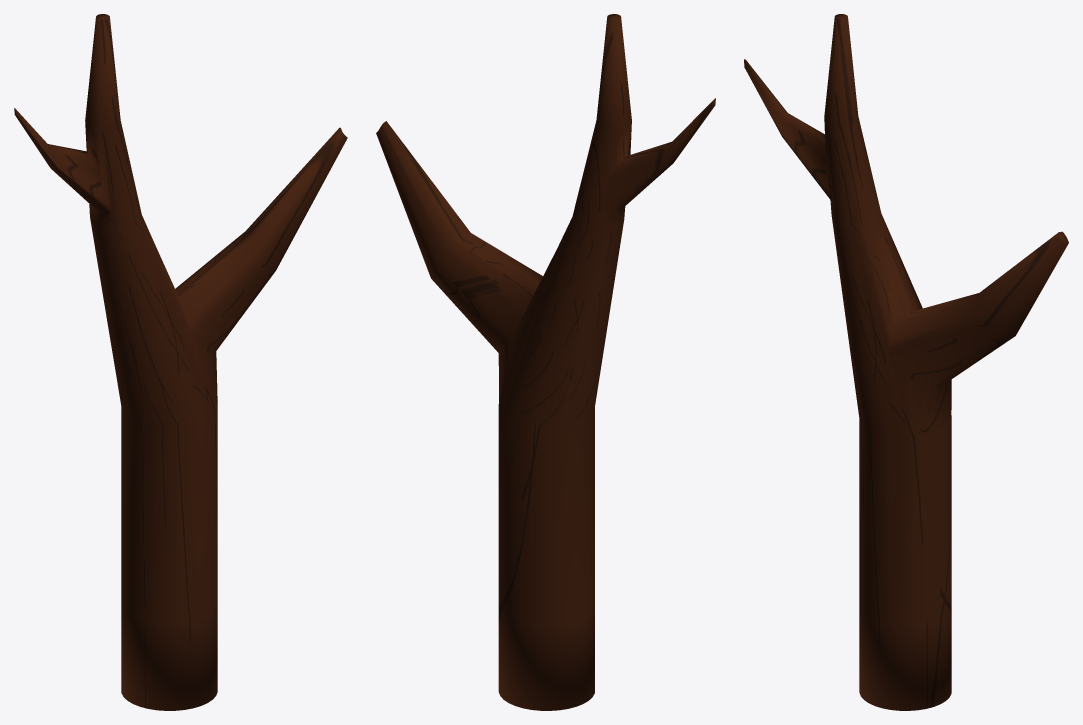
Rendered from Stick.glb.
The picture shows the model from 3 angles, left to right: view 1: azimuth 30°, elevation 25°; view 2: azimuth 150°, elevation 25°; view 3: azimuth 330°, elevation 25°; orthographic projection. The views are drawn at different scales.
Parts seen in each view (by area): view 1: Cylinder; view 2: Cylinder; view 3: Cylinder.
Part boxes in pixels (x1,y1,x2,y2): Cylinder: (14, 14, 347, 710); Cylinder: (376, 14, 715, 710); Cylinder: (744, 14, 1068, 710).
Size of the model in its own units: 8.01 by 15.74 by 2.
1 material, 1 textured.
